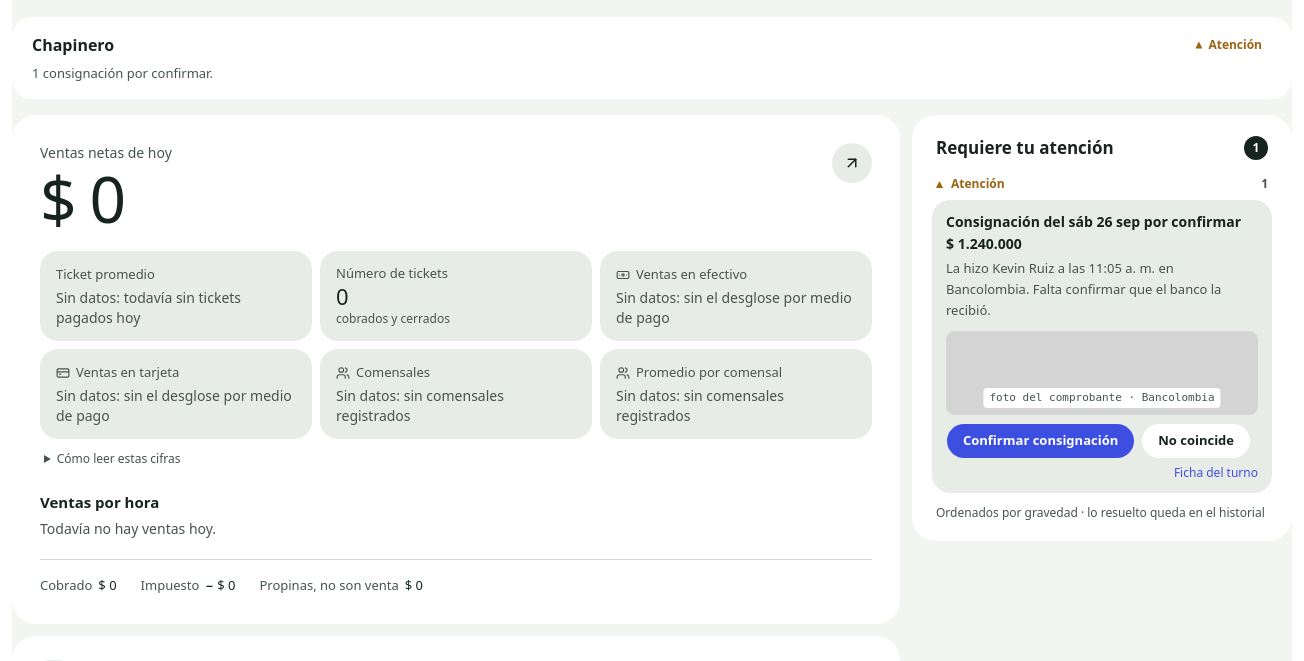
Test: Requiere tu atención — acciones en el lugar › confirmar una consignación la deja confirmada con el rastro, y se reversa con motivo
Expected: the text "$ 1.240.000" is shown, x1=946 y1=234 x2=1022 y2=254
Click the button with aria-label "Ampliar la foto del comprobante" at (1102, 373), box x1=946 y1=331 x2=1258 y2=415
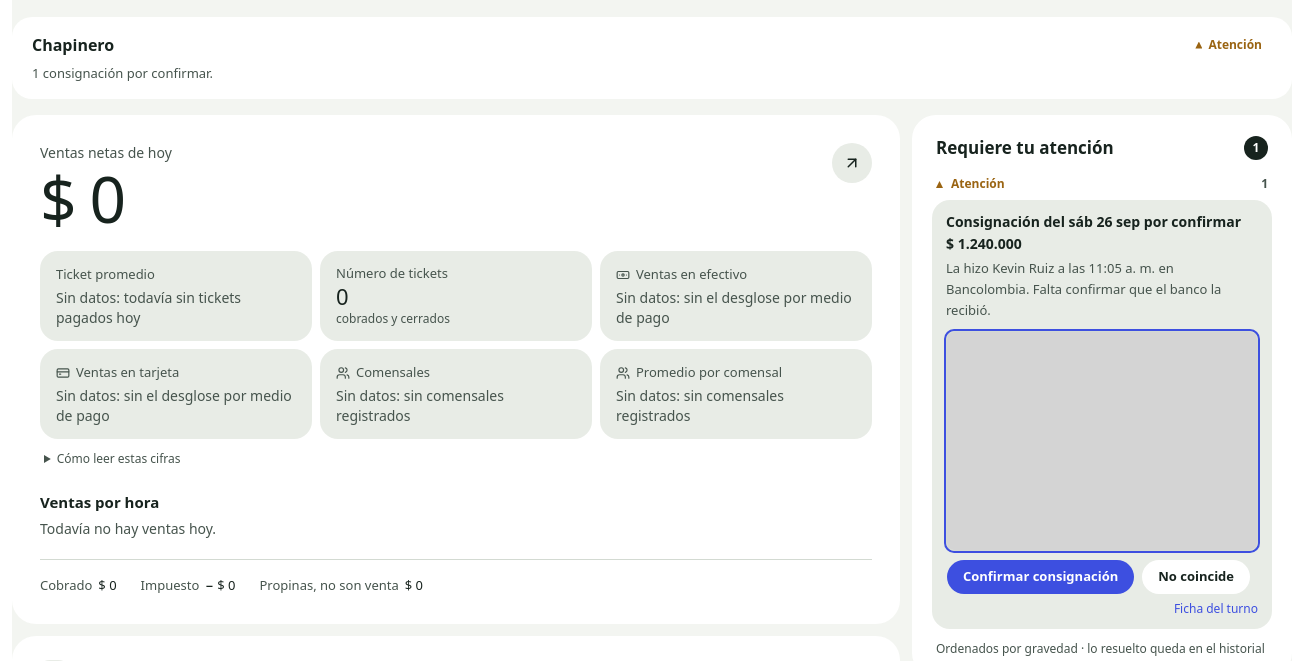
Click the button "Confirmar consignación" at (1041, 577), box x1=946 y1=559 x2=1135 y2=595
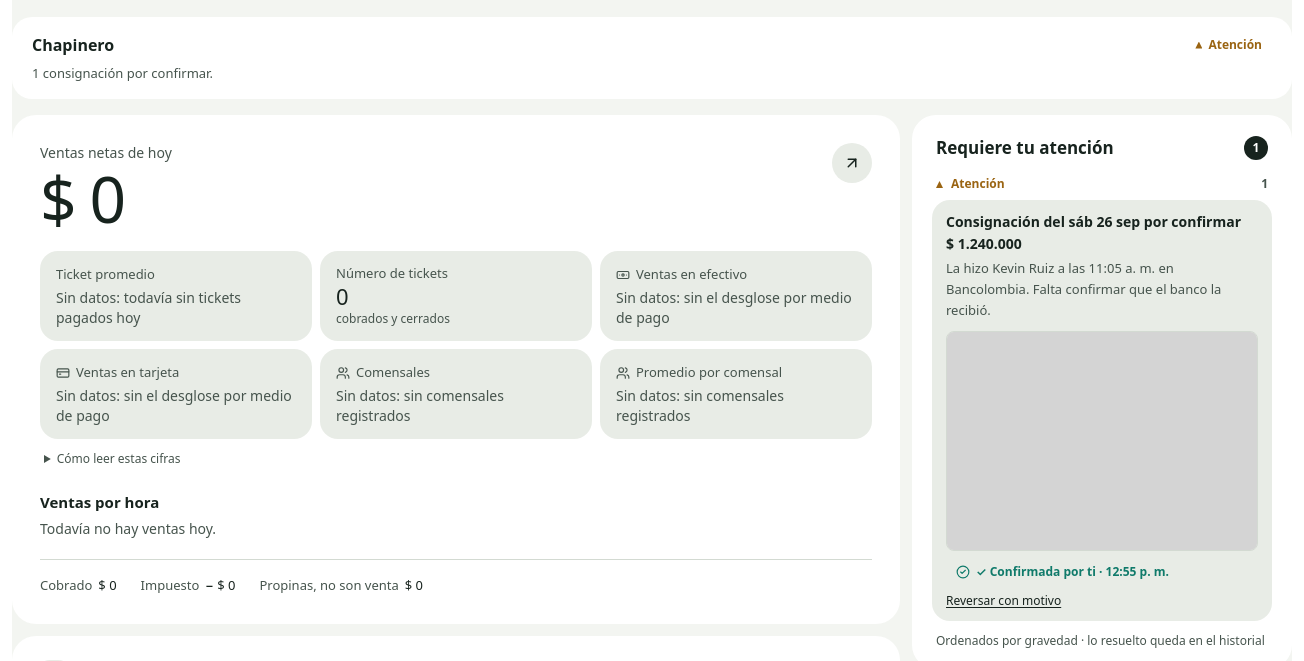
Now the text "✓ Confirmada por ti · 12:55 p. m." is shown, box x1=946 y1=559 x2=1179 y2=585
Click the button "Reversar con motivo" at (1004, 601), box x1=946 y1=593 x2=1061 y2=609
(page scrolled)
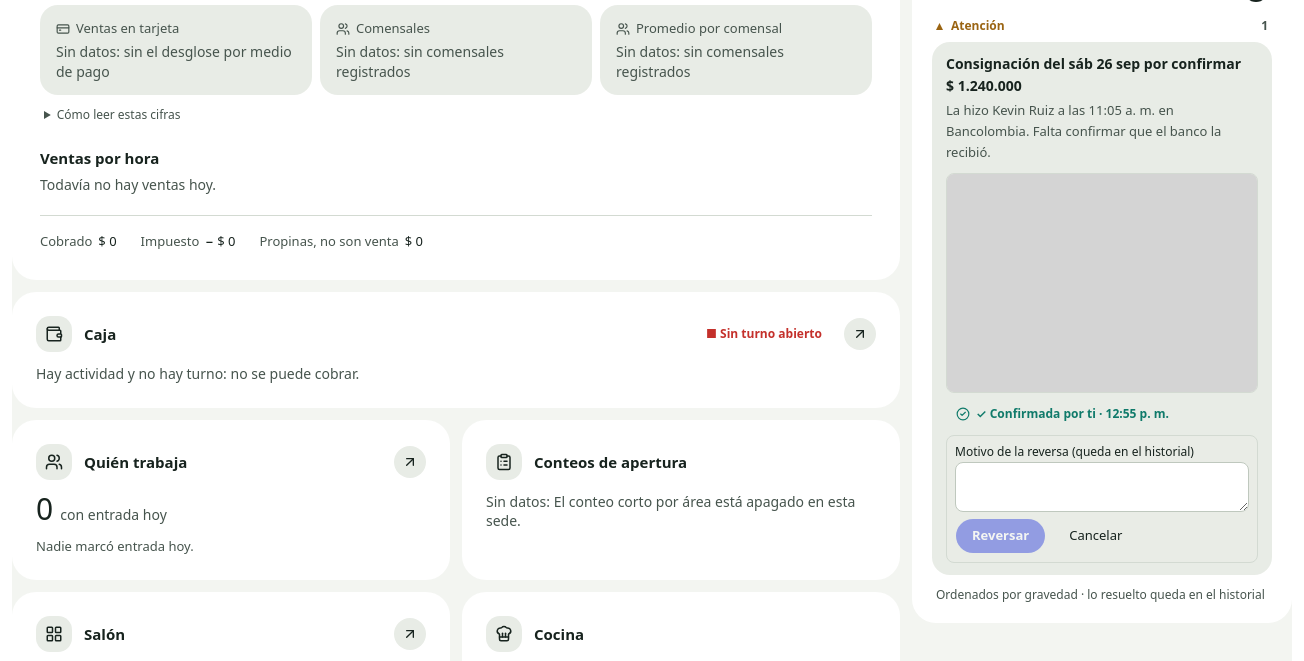
Type "Confirmé la equivocada" into the text box labelled "Motivo de la reversa (queda en el historial)" at (1102, 487), box x1=955 y1=462 x2=1249 y2=512
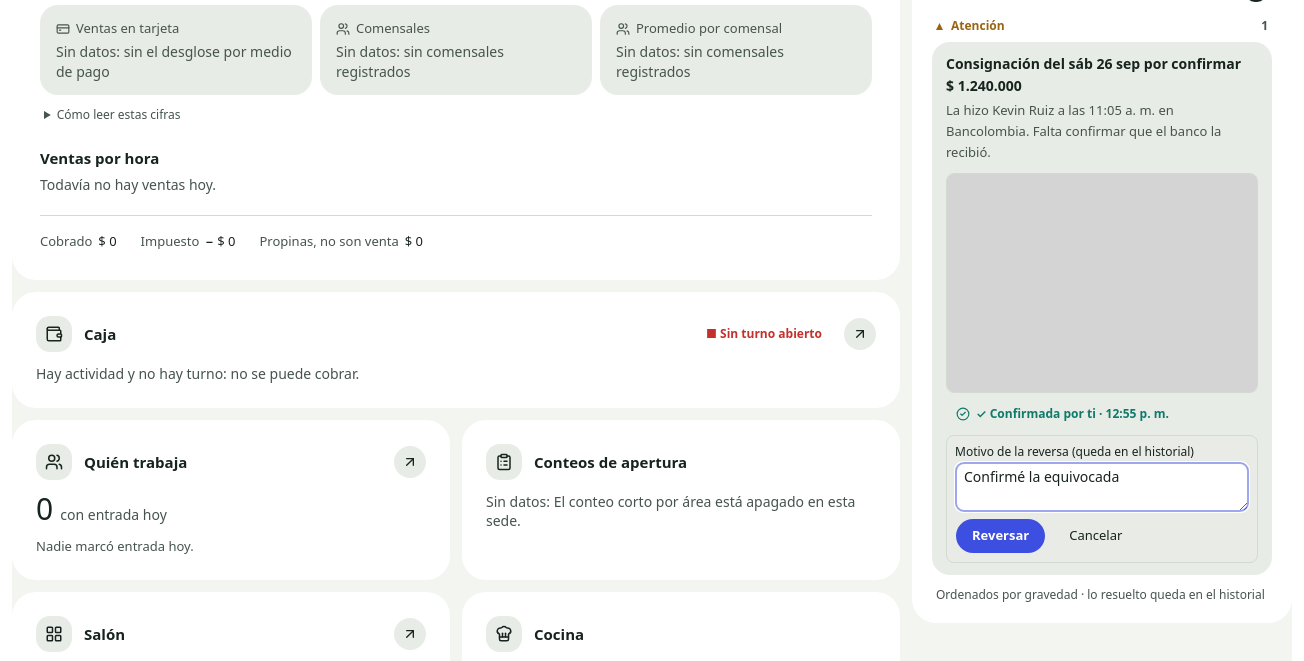
Click the button "Reversar" at (1001, 536), box x1=955 y1=518 x2=1046 y2=554
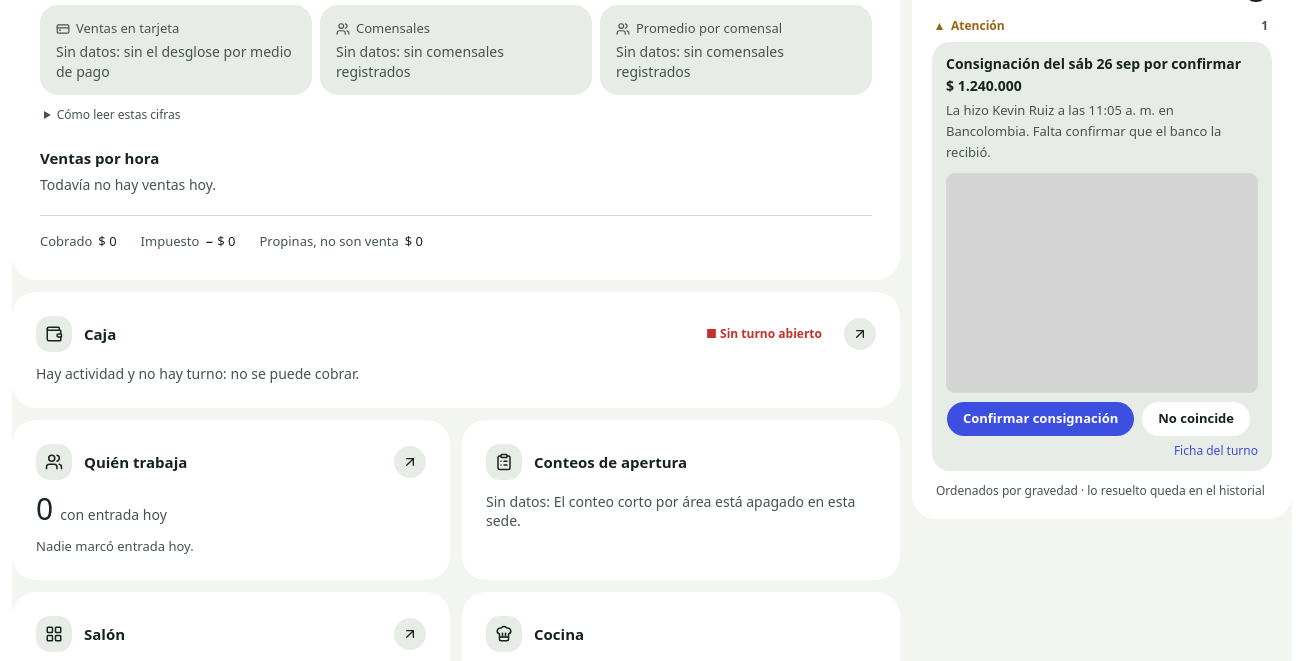
Now the button "Confirmar consignación" is shown, box x1=946 y1=401 x2=1135 y2=437
